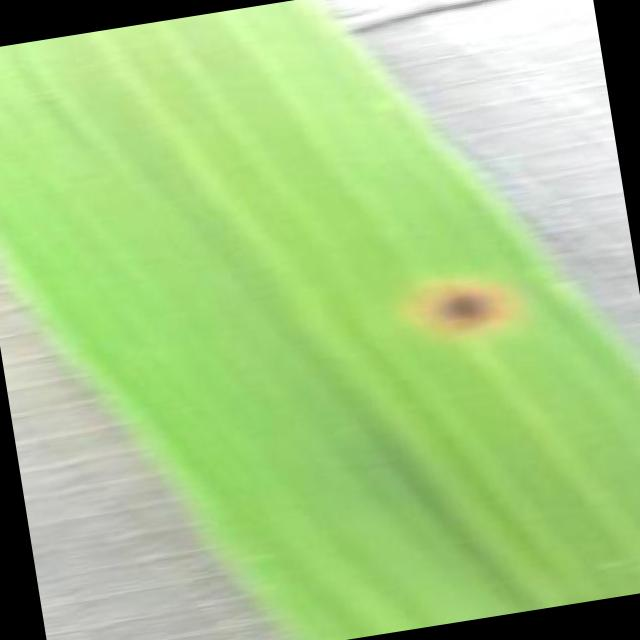Rice_Brownspot: (381, 246, 526, 362)
